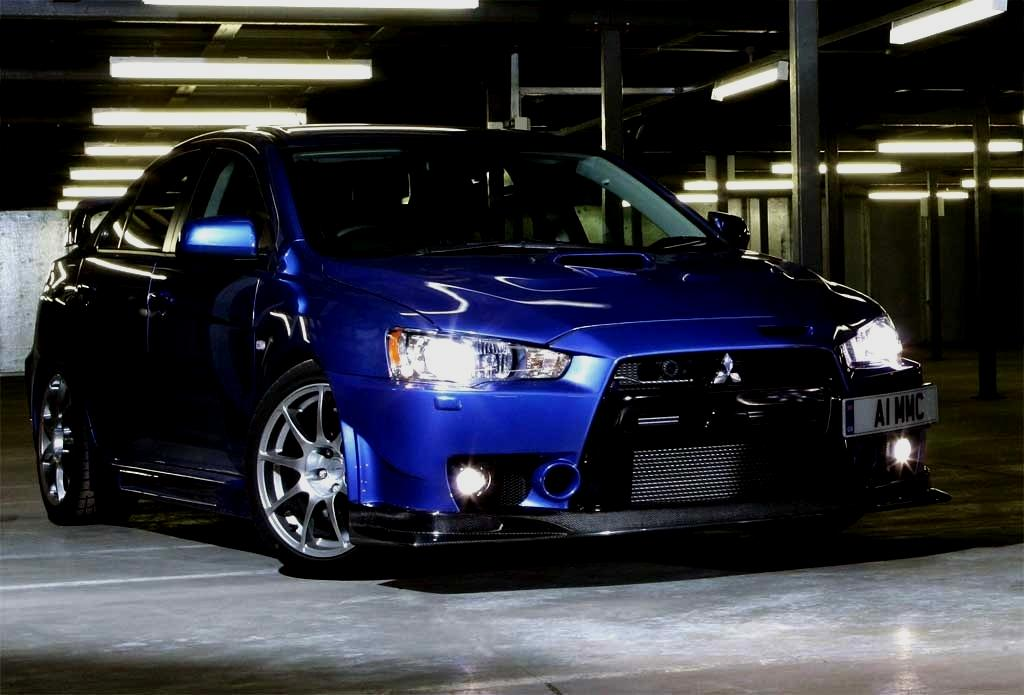Mitsubishi: (696, 346, 759, 394)
